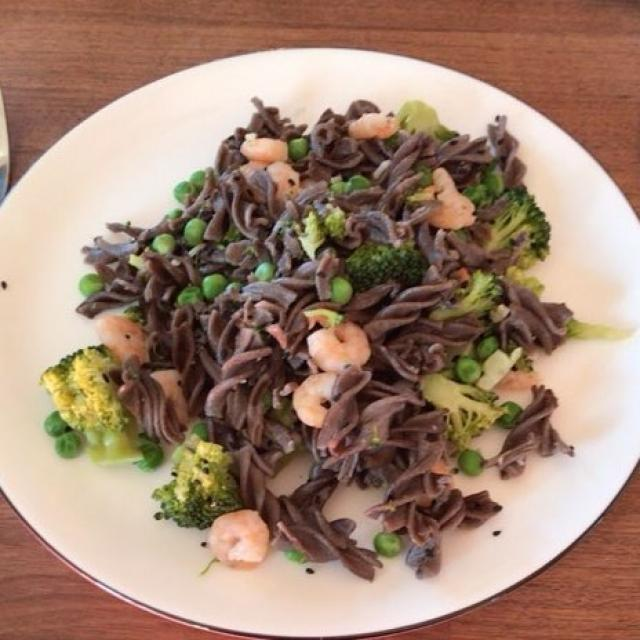broccoli: (50, 341, 244, 536)
pasta: (57, 107, 572, 570)
peas: (154, 170, 350, 310)
shrimp: (78, 117, 476, 576)
